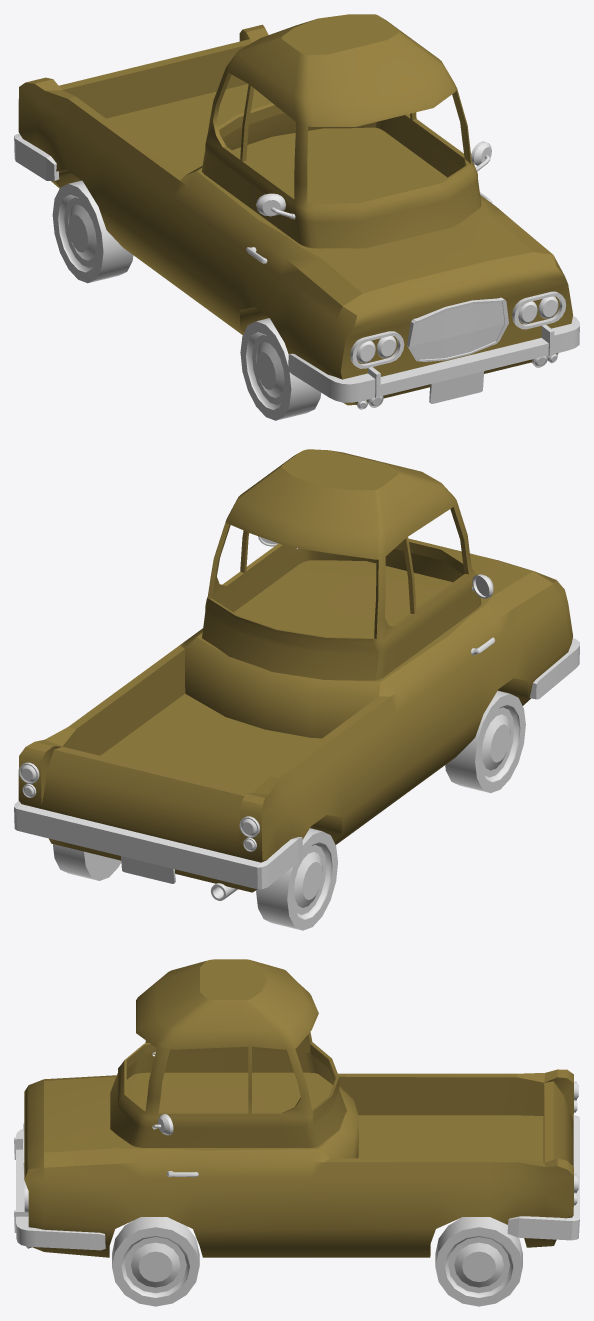
File: Truck.fbx
3 views of the same model, one above another, from view 1: azimuth 30°, elevation 25°; view 2: azimuth 150°, elevation 25°; view 3: azimuth 270°, elevation 25° (orthographic). The views are drawn at different scales.
Visible parts, largest first — view 1: Cabin_Exterior, Cabin_Exterior.001, Bumper_Rear, Wheels_Front, Lights_Front_Turn, Bumper_Rear.001; view 2: Cabin_Exterior, Cabin_Exterior.001, Wheels_Front, Bumper_Rear, Lights_Front_Turn, Plate_Rear; view 3: Cabin_Exterior, Cabin_Exterior.001, Wheels_Front, Bumper_Rear.
Boxes of the visible parts, bbox=[...] form: Cabin_Exterior: bbox=[18, 24, 572, 405]; Cabin_Exterior.001: bbox=[202, 14, 481, 248]; Bumper_Rear: bbox=[14, 133, 579, 403]; Wheels_Front: bbox=[52, 180, 320, 420]; Lights_Front_Turn: bbox=[18, 99, 566, 409]; Bumper_Rear.001: bbox=[256, 141, 491, 219]; Cabin_Exterior: bbox=[18, 538, 572, 892]; Cabin_Exterior.001: bbox=[202, 449, 481, 680]; Wheels_Front: bbox=[53, 691, 525, 930]; Bumper_Rear: bbox=[14, 637, 579, 900]; Lights_Front_Turn: bbox=[18, 762, 259, 851]; Plate_Rear: bbox=[121, 856, 175, 883]; Cabin_Exterior: bbox=[24, 1069, 573, 1257]; Cabin_Exterior.001: bbox=[110, 959, 346, 1147]; Wheels_Front: bbox=[112, 1217, 522, 1306]; Bumper_Rear: bbox=[14, 1115, 579, 1250].
Bounding box in the file's own units: 206 × 251 × 464.
